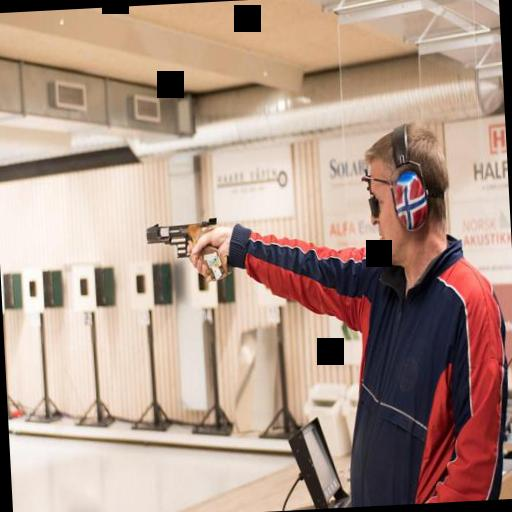Handgun: (143, 210, 232, 284)
